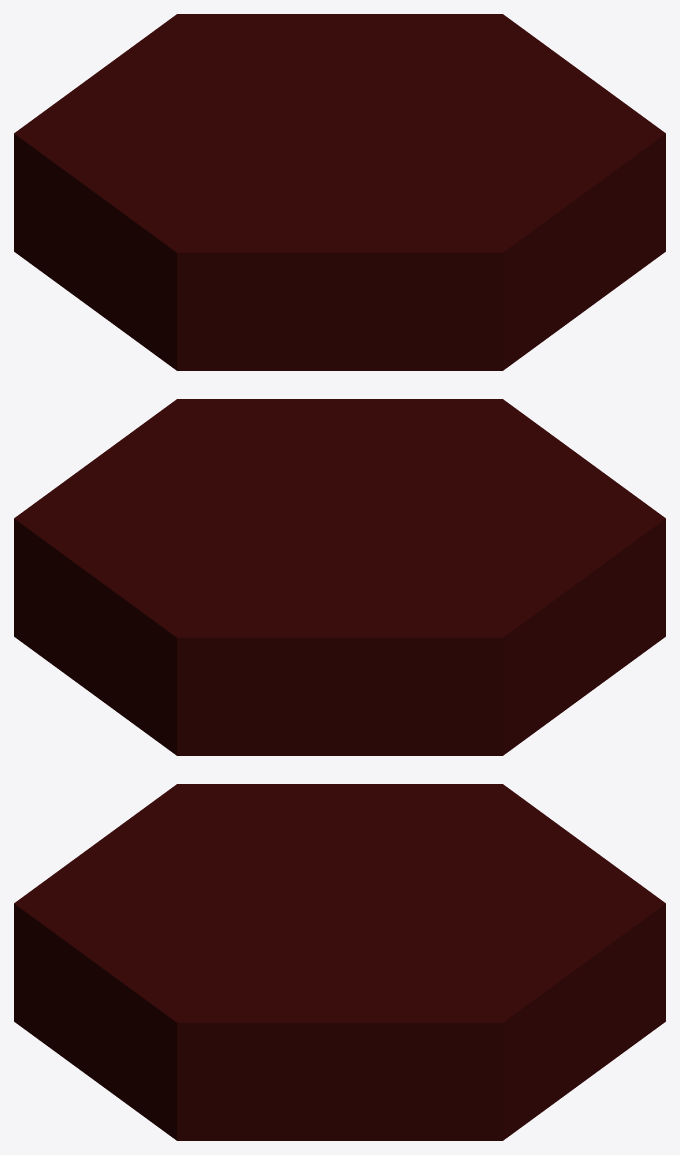
Rendered from TileHex_14.fbx.
The picture shows the model from 3 angles, top to bottom: view 1: azimuth 30°, elevation 25°; view 2: azimuth 150°, elevation 25°; view 3: azimuth 270°, elevation 25°; orthographic projection.
Parts seen in each view (by area): view 1: TileHex_14; view 2: TileHex_14; view 3: TileHex_14.
Part boxes in pixels (<box>): TileHex_14: <box>14,14,665,370</box>; TileHex_14: <box>14,399,665,755</box>; TileHex_14: <box>14,784,665,1140</box>.
Size of the model in its own units: 433 by 100 by 500.
